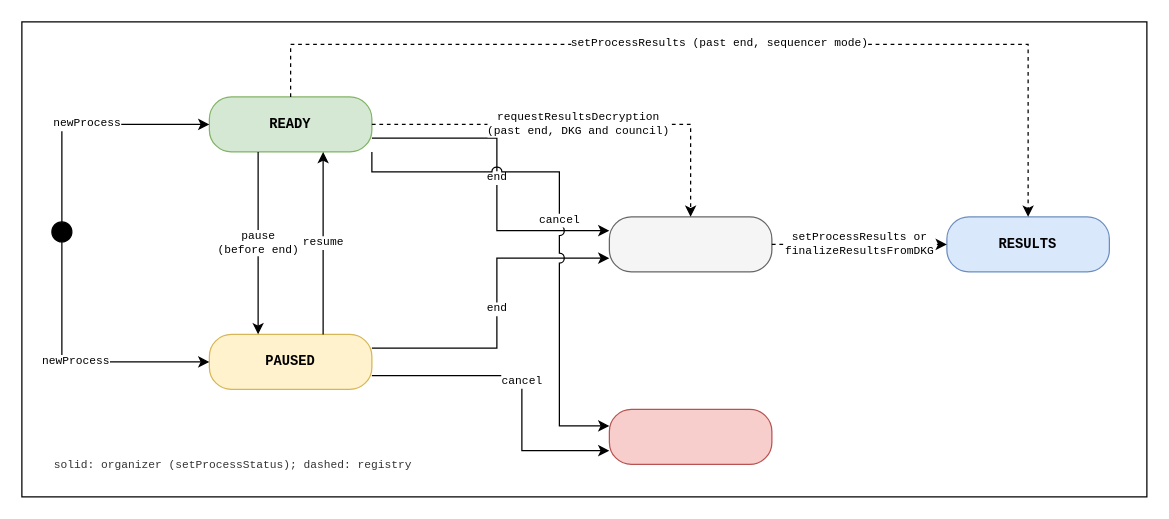
The diagram is 1169 pixels wide and 519 high, and some of its shapes have lost their labels. The shapes that lost their labels are listed below. From the top down, each one's centre as x and y in pixels, then its label:
At (x=690, y=244): "ENDED".
At (x=690, y=436): "CANCELED".
